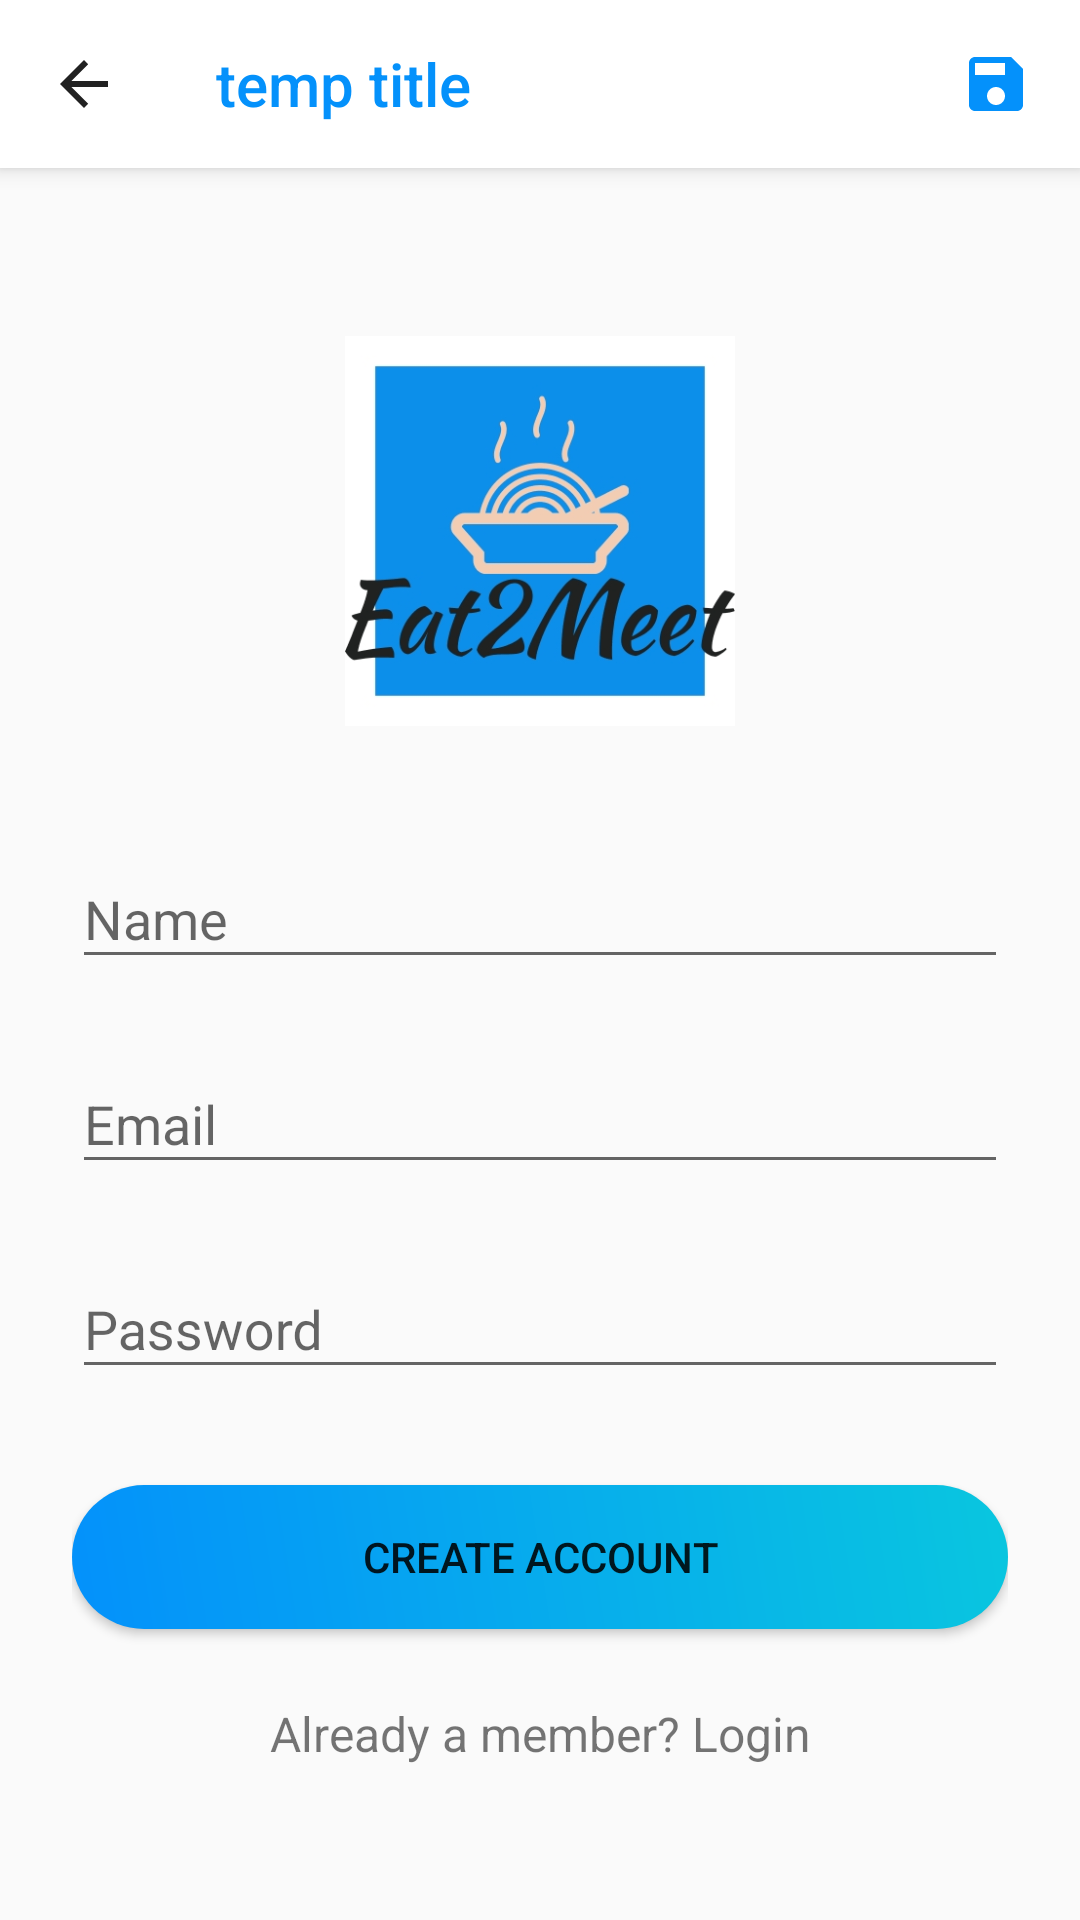

Named icons in this screenshot (1080px×1920px) and their centers, [x,y]:
save: [996,84]
